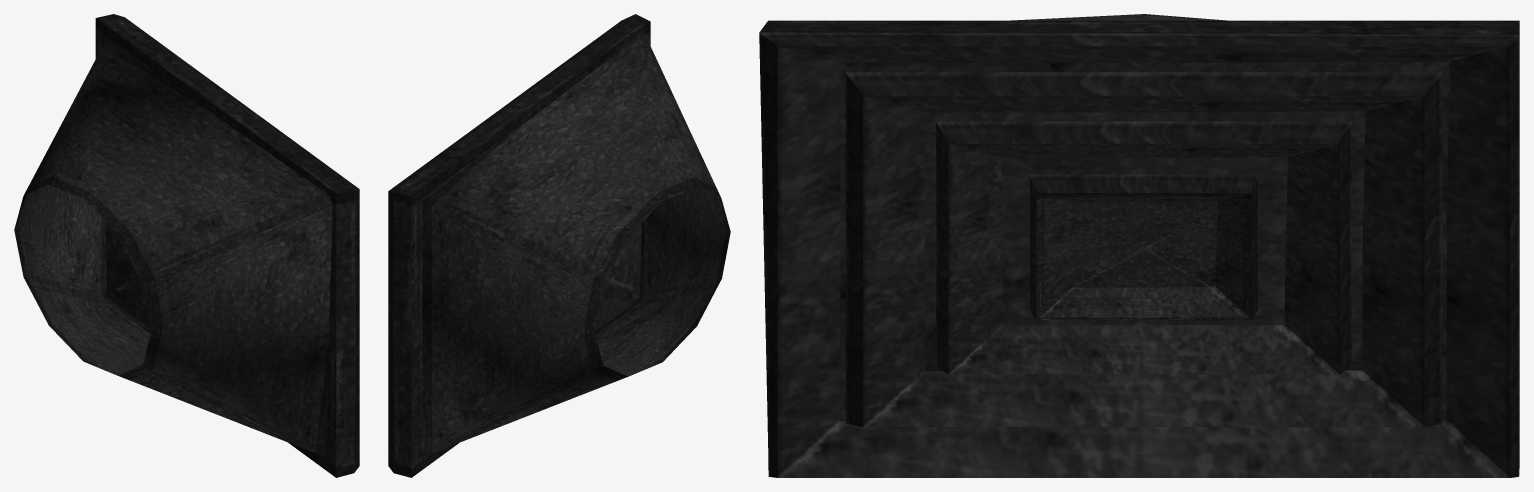
Rendered from p6_duct_rect_sml_vent_white_lod0.glb.
3 views of the same model, side by side, from view 1: azimuth 30°, elevation 25°; view 2: azimuth 150°, elevation 25°; view 3: azimuth 270°, elevation 25° (orthographic). The views are drawn at different scales.
Parts seen in each view (by area): view 1: surf0; view 2: surf0; view 3: surf0.
Part boxes in pixels (box(x1,y1,x2,y2)): surf0: box(14, 14, 359, 477); surf0: box(388, 14, 730, 477); surf0: box(759, 14, 1519, 477).
Bounding box in the file's own units: 8.4 × 14.35 × 22.26.
